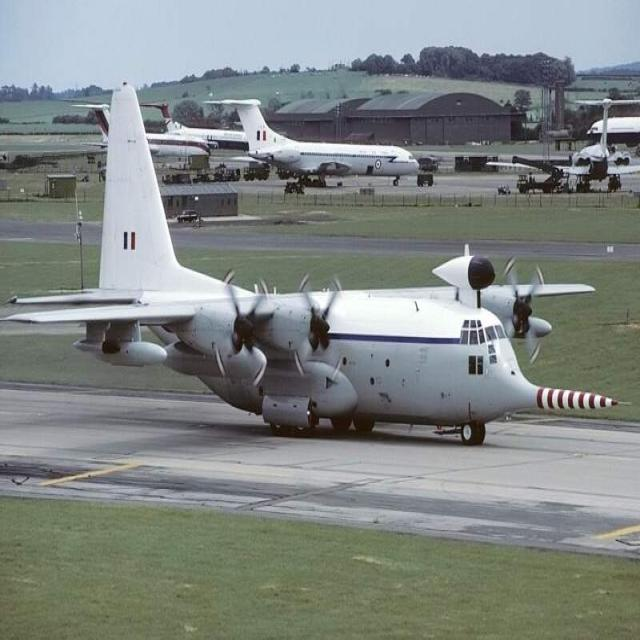C130: (0, 71, 626, 482)
